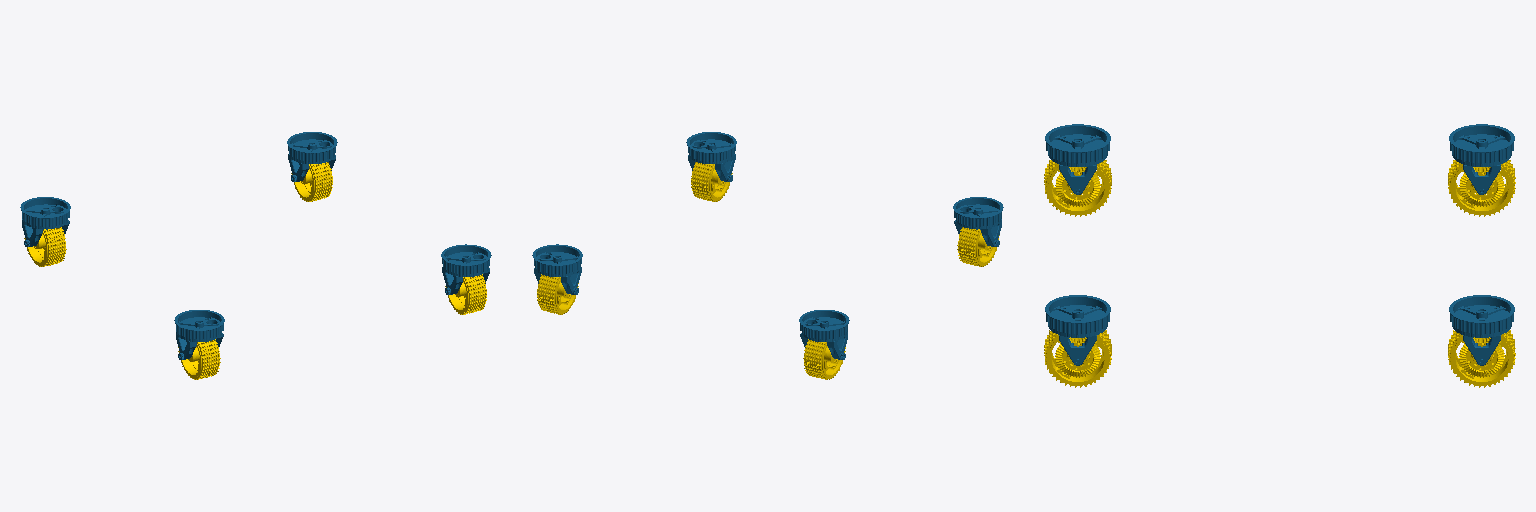
robot.urdf — swerve:
<?xml version="1.0" ?><!-- =================================================================================== --><!-- |    This document was autogenerated by xacro from [local-path]/Documents/2023RobotROS/install/swerve_description/share/swerve_description/urdf/robots/swerve.urdf.xacro | --><!-- |    EDITING THIS FILE BY HAND IS NOT RECOMMENDED                                 | --><!-- =================================================================================== --><robot name="swerve"><!-- Specify some standard inertial calculations https://en.wikipedia.org/wiki/List_of_moments_of_inertia --><!-- These make use of xacro's mathematical functionality --><material name="black"><color rgba="0.0 0.0 0.0 1.0"/></material><material name="blue"><color rgba="0.13725490196078433 0.43137254901960786 0.5882352941176471 1.0"/></material><material name="green"><color rgba="0.0 0.8 0.0 1.0"/></material><material name="grey"><color rgba="0.2 0.2 0.2 1.0"/></material><material name="yellow"><color rgba="1.0 0.8431372549019608 0.0 1"/></material><material name="orange"><color rgba="0.9529411764705882 0.5294117647058824 0.1843137254901961 1"/></material><material name="brown"><color rgba="0.8705882352941177 0.8117647058823529 0.7647058823529411 1.0"/></material><material name="red"><color rgba="0.8 0.0 0.0 1.0"/></material><material name="white"><color rgba="1.0 1.0 1.0 1.0"/></material><material name="silver"><color rgba="0.700 0.700 0.700 1.000"/></material><link name="base_link"/><link name="swerve_chassis_link"><inertial><origin rpy="0 0 0" xyz="0 0 0"/><mass value="19.0508795"/><inertia ixx="0.8663421337789339" ixy="0.0" ixz="0.0" iyy="0.8663421337789339" iyz="0.0" izz="1.7227696361205036"/></inertial><visual><origin rpy="0 0 0" xyz="0.061605 -0.34976 -0.53866"/><geometry><mesh filename="package://swerve_description/meshes/SwerveChassis.stl" scale="0.001 0.001 0.001"/></geometry><material name="red"/></visual><collision><origin rpy="0 0 0" xyz="0 0.02794 0"/><geometry><box size="0.7366 0.05588 0.7366"/></geometry></collision></link><joint name="swerve_chassis_joint" type="fixed"><parent link="base_link"/><child link="swerve_chassis_link"/><origin rpy="1.5707963267948966 0 0" xyz="0 0 0"/></joint><link name="front_left_axle_link"><visual><origin rpy="0 0 0" xyz="0 0 0"/><geometry><mesh filename="package://swerve_description/meshes/SwerveAxle.stl" scale="0.001 0.001 0.001"/></geometry><material name="blue"/></visual><inertial><origin rpy="0 0 0" xyz="0 0 0"/><mass value="0.23739"/><inertia ixx="0.0003625461623249999" ixy="0.0" ixz="0.0" iyy="0.0003625461623249999" iyz="0.0" izz="0.0006676593749999999"/></inertial></link><joint name="front_left_axle_joint" type="continuous"><parent link="swerve_chassis_link"/><child link="front_left_axle_link"/><origin rpy="1.5707963267948966 0 0" xyz="0.301625 0.06905599999999999 0.301625"/><axis xyz="0 0 1"/><dynamics friction="0.1"/></joint><link name="front_left_wheel_link"><visual><origin rpy="0 0.7853981633974483 0" xyz="0 0 0"/><geometry><mesh filename="package://swerve_description/meshes/SwerveWheel.stl" scale="0.001 0.001 0.001"/></geometry><material name="yellow"/></visual><collision><origin rpy="0 1.5707963267948966 0" xyz="0.021 0 0"/><geometry><cylinder length="0.0381" radius="0.0508"/></geometry></collision><inertial><origin rpy="0 1.5707963267948966 0" xyz="0 0 0"/><mass value="0.23133211"/><inertia ixx="0.00017722989110402498" ixy="0.0" ixz="0.0" iyy="0.00017722989110402498" iyz="0.0" izz="0.0002984924481752"/></inertial></link><joint name="front_left_wheel_joint" type="continuous"><parent link="front_left_axle_link"/><child link="front_left_wheel_link"/><origin rpy="0 0 0" xyz="-0.022 0 0.065"/><axis xyz="1 0 0"/><dynamics friction="0.1"/></joint><link name="front_right_axle_link"><visual><origin rpy="0 0 0" xyz="0 0 0"/><geometry><mesh filename="package://swerve_description/meshes/SwerveAxle.stl" scale="0.001 0.001 0.001"/></geometry><material name="blue"/></visual><inertial><origin rpy="0 0 0" xyz="0 0 0"/><mass value="0.23739"/><inertia ixx="0.0003625461623249999" ixy="0.0" ixz="0.0" iyy="0.0003625461623249999" iyz="0.0" izz="0.0006676593749999999"/></inertial></link><joint name="front_right_axle_joint" type="continuous"><parent link="swerve_chassis_link"/><child link="front_right_axle_link"/><origin rpy="1.5707963267948966 0 0" xyz="-0.301625 0.06905599999999999 0.301625"/><axis xyz="0 0 1"/><dynamics friction="0.1"/></joint><link name="front_right_wheel_link"><visual><origin rpy="0 0.7853981633974483 0" xyz="0 0 0"/><geometry><mesh filename="package://swerve_description/meshes/SwerveWheel.stl" scale="0.001 0.001 0.001"/></geometry><material name="yellow"/></visual><collision><origin rpy="0 1.5707963267948966 0" xyz="0.021 0 0"/><geometry><cylinder length="0.0381" radius="0.0508"/></geometry></collision><inertial><origin rpy="0 1.5707963267948966 0" xyz="0 0 0"/><mass value="0.23133211"/><inertia ixx="0.00017722989110402498" ixy="0.0" ixz="0.0" iyy="0.00017722989110402498" iyz="0.0" izz="0.0002984924481752"/></inertial></link><joint name="front_right_wheel_joint" type="continuous"><parent link="front_right_axle_link"/><child link="front_right_wheel_link"/><origin rpy="0 0 0" xyz="-0.022 0 0.065"/><axis xyz="1 0 0"/><dynamics friction="0.1"/></joint><link name="rear_left_axle_link"><visual><origin rpy="0 0 0" xyz="0 0 0"/><geometry><mesh filename="package://swerve_description/meshes/SwerveAxle.stl" scale="0.001 0.001 0.001"/></geometry><material name="blue"/></visual><inertial><origin rpy="0 0 0" xyz="0 0 0"/><mass value="0.23739"/><inertia ixx="0.0003625461623249999" ixy="0.0" ixz="0.0" iyy="0.0003625461623249999" iyz="0.0" izz="0.0006676593749999999"/></inertial></link><joint name="rear_left_axle_joint" type="continuous"><parent link="swerve_chassis_link"/><child link="rear_left_axle_link"/><origin rpy="1.5707963267948966 0 0" xyz="0.301625 0.06905599999999999 -0.301625"/><axis xyz="0 0 1"/><dynamics friction="0.1"/></joint><link name="rear_left_wheel_link"><visual><origin rpy="0 0.7853981633974483 0" xyz="0 0 0"/><geometry><mesh filename="package://swerve_description/meshes/SwerveWheel.stl" scale="0.001 0.001 0.001"/></geometry><material name="yellow"/></visual><collision><origin rpy="0 1.5707963267948966 0" xyz="0.021 0 0"/><geometry><cylinder length="0.0381" radius="0.0508"/></geometry></collision><inertial><origin rpy="0 1.5707963267948966 0" xyz="0 0 0"/><mass value="0.23133211"/><inertia ixx="0.00017722989110402498" ixy="0.0" ixz="0.0" iyy="0.00017722989110402498" iyz="0.0" izz="0.0002984924481752"/></inertial></link><joint name="rear_left_wheel_joint" type="continuous"><parent link="rear_left_axle_link"/><child link="rear_left_wheel_link"/><origin rpy="0 0 0" xyz="-0.022 0 0.065"/><axis xyz="1 0 0"/><dynamics friction="0.1"/></joint><link name="rear_right_axle_link"><visual><origin rpy="0 0 0" xyz="0 0 0"/><geometry><mesh filename="package://swerve_description/meshes/SwerveAxle.stl" scale="0.001 0.001 0.001"/></geometry><material name="blue"/></visual><inertial><origin rpy="0 0 0" xyz="0 0 0"/><mass value="0.23739"/><inertia ixx="0.0003625461623249999" ixy="0.0" ixz="0.0" iyy="0.0003625461623249999" iyz="0.0" izz="0.0006676593749999999"/></inertial></link><joint name="rear_right_axle_joint" type="continuous"><parent link="swerve_chassis_link"/><child link="rear_right_axle_link"/><origin rpy="1.5707963267948966 0 0" xyz="-0.301625 0.06905599999999999 -0.301625"/><axis xyz="0 0 1"/><dynamics friction="0.1"/></joint><link name="rear_right_wheel_link"><visual><origin rpy="0 0.7853981633974483 0" xyz="0 0 0"/><geometry><mesh filename="package://swerve_description/meshes/SwerveWheel.stl" scale="0.001 0.001 0.001"/></geometry><material name="yellow"/></visual><collision><origin rpy="0 1.5707963267948966 0" xyz="0.021 0 0"/><geometry><cylinder length="0.0381" radius="0.0508"/></geometry></collision><inertial><origin rpy="0 1.5707963267948966 0" xyz="0 0 0"/><mass value="0.23133211"/><inertia ixx="0.00017722989110402498" ixy="0.0" ixz="0.0" iyy="0.00017722989110402498" iyz="0.0" izz="0.0002984924481752"/></inertial></link><joint name="rear_right_wheel_joint" type="continuous"><parent link="rear_right_axle_link"/><child link="rear_right_wheel_link"/><origin rpy="0 0 0" xyz="-0.022 0 0.065"/><axis xyz="1 0 0"/><dynamics friction="0.1"/></joint><ros2_control name="swerve_drive" type="system"><hardware><plugin>swerve_hardware/IsaacDriveHardware</plugin><param name="example_param_hw_start_duration_sec">3.0</param><param name="example_param_hw_stop_duration_sec">3.0</param></hardware><joint name="front_right_wheel_joint"><command_interface name="velocity"><param name="min">-1</param><param name="max">1</param></command_interface><state_interface name="position"/><state_interface name="velocity"/></joint><joint name="rear_left_wheel_joint"><command_interface name="velocity"><param name="min">-1</param><param name="max">1</param></command_interface><state_interface name="position"/><state_interface name="velocity"/></joint><joint name="front_left_wheel_joint"><command_interface name="velocity"><param name="min">-1</param><param name="max">1</param></command_interface><state_interface name="position"/><state_interface name="velocity"/></joint><joint name="rear_right_wheel_joint"><command_interface name="velocity"><param name="min">-1</param><param name="max">1</param></command_interface><state_interface name="position"/><state_interface name="velocity"/></joint><joint name="front_right_axle_joint"><command_interface name="velocity"><param name="min">-1</param><param name="max">1</param></command_interface><state_interface name="position"/><state_interface name="velocity"/></joint><joint name="rear_left_axle_joint"><command_interface name="velocity"><param name="min">-1</param><param name="max">1</param></command_interface><state_interface name="position"/><state_interface name="velocity"/></joint><joint name="front_left_axle_joint"><command_interface name="velocity"><param name="min">-1</param><param name="max">1</param></command_interface><state_interface name="position"/><state_interface name="velocity"/></joint><joint name="rear_right_axle_joint"><command_interface name="velocity"><param name="min">-1</param><param name="max">1</param></command_interface><state_interface name="position"/><state_interface name="velocity"/></joint></ros2_control></robot>

--- Render facts (derived) ---
Views: 3 orthographic renders of the robot side by side, from view 1: azimuth 30°, elevation 25°; view 2: azimuth 150°, elevation 25°; view 3: azimuth 270°, elevation 25°.
Robot: swerve — 10 links, 9 joints (8 continuous, 1 fixed); root link base_link; default pose: every joint at zero.
Links seen in each view (by area): view 1: rear_right_axle_link, rear_left_axle_link, front_left_axle_link, front_right_axle_link, front_right_wheel_link, rear_left_wheel_link, front_left_wheel_link, rear_right_wheel_link; view 2: front_left_axle_link, front_right_axle_link, rear_left_axle_link, rear_right_axle_link, rear_right_wheel_link, front_left_wheel_link, rear_left_wheel_link, front_right_wheel_link; view 3: front_left_axle_link, rear_left_axle_link, front_right_axle_link, rear_right_axle_link, front_left_wheel_link, front_right_wheel_link, rear_right_wheel_link, rear_left_wheel_link.
Link boxes in pixels (x1,y1,x2,y2): rear_right_axle_link: [20, 197, 70, 246]; rear_left_axle_link: [287, 132, 337, 181]; front_left_axle_link: [441, 244, 491, 294]; front_right_axle_link: [174, 310, 224, 359]; front_right_wheel_link: [178, 339, 220, 379]; rear_left_wheel_link: [291, 162, 332, 201]; front_left_wheel_link: [445, 274, 486, 314]; rear_right_wheel_link: [24, 227, 66, 266]; front_left_axle_link: [686, 132, 736, 181]; front_right_axle_link: [953, 197, 1003, 246]; rear_left_axle_link: [532, 244, 582, 294]; rear_right_axle_link: [799, 310, 849, 359]; rear_right_wheel_link: [803, 339, 845, 379]; front_left_wheel_link: [691, 162, 732, 201]; rear_left_wheel_link: [537, 274, 578, 314]; front_right_wheel_link: [957, 227, 999, 266]; front_left_axle_link: [1045, 295, 1110, 365]; rear_left_axle_link: [1449, 295, 1514, 365]; front_right_axle_link: [1045, 124, 1110, 194]; rear_right_axle_link: [1449, 124, 1514, 194]; front_left_wheel_link: [1044, 330, 1111, 387]; front_right_wheel_link: [1044, 160, 1111, 216]; rear_right_wheel_link: [1448, 160, 1515, 216]; rear_left_wheel_link: [1448, 330, 1515, 387].
Size in the robot's own frame: 0.7017 by 0.7034 by 0.1212 metres.
Meshes: 3 distinct files referenced, 8 mesh visuals loaded (2 binary STL); not drawn: 1 (reference not matched to a file when rendering).
